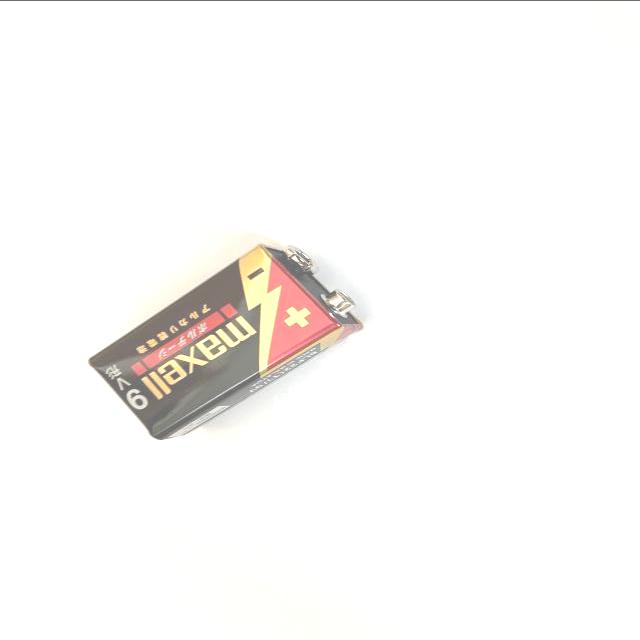9V: (86, 242, 366, 438)
